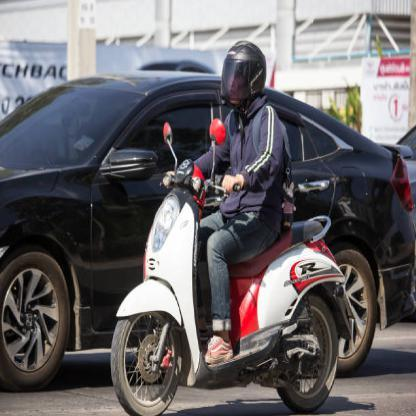Motorcycle: (107, 166, 342, 415)
